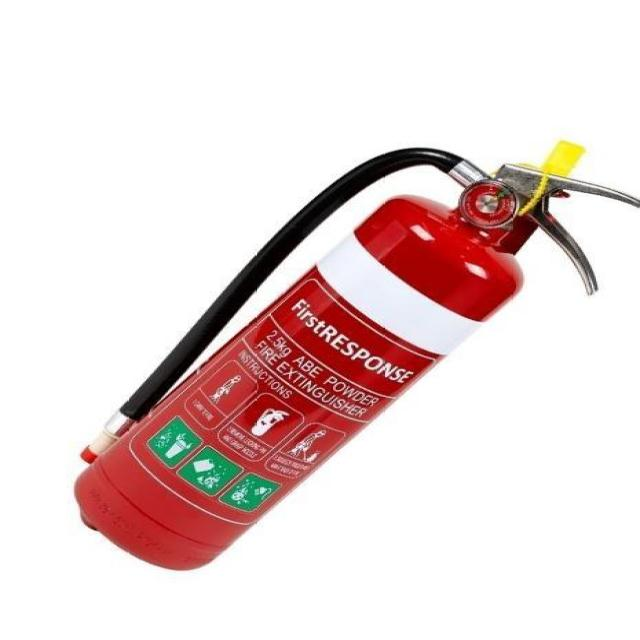fire_extinguisher: (62, 135, 639, 576)
